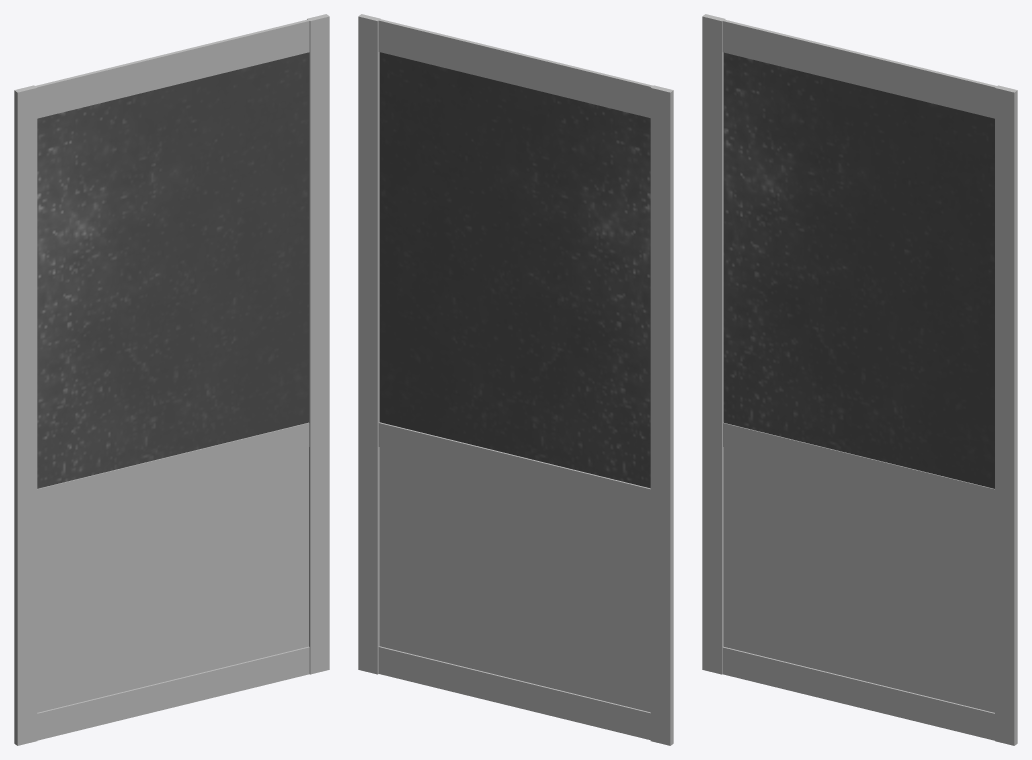
File: shop_f_creaning_door01.fbx
3 renders of one model, left to right at view 1: azimuth 30°, elevation 25°; view 2: azimuth 150°, elevation 25°; view 3: azimuth 330°, elevation 25°, orthographic.
Parts seen in each view (by area): view 1: shop_f_creaning_door01; view 2: shop_f_creaning_door01; view 3: shop_f_creaning_door01.
Boxes of the visible parts, x1,y1,x2,y2 form: shop_f_creaning_door01: [14, 14, 329, 745]; shop_f_creaning_door01: [358, 14, 673, 745]; shop_f_creaning_door01: [702, 14, 1017, 745].
Bounding box in the file's own units: 1.16 × 2.31 × 0.0215.
